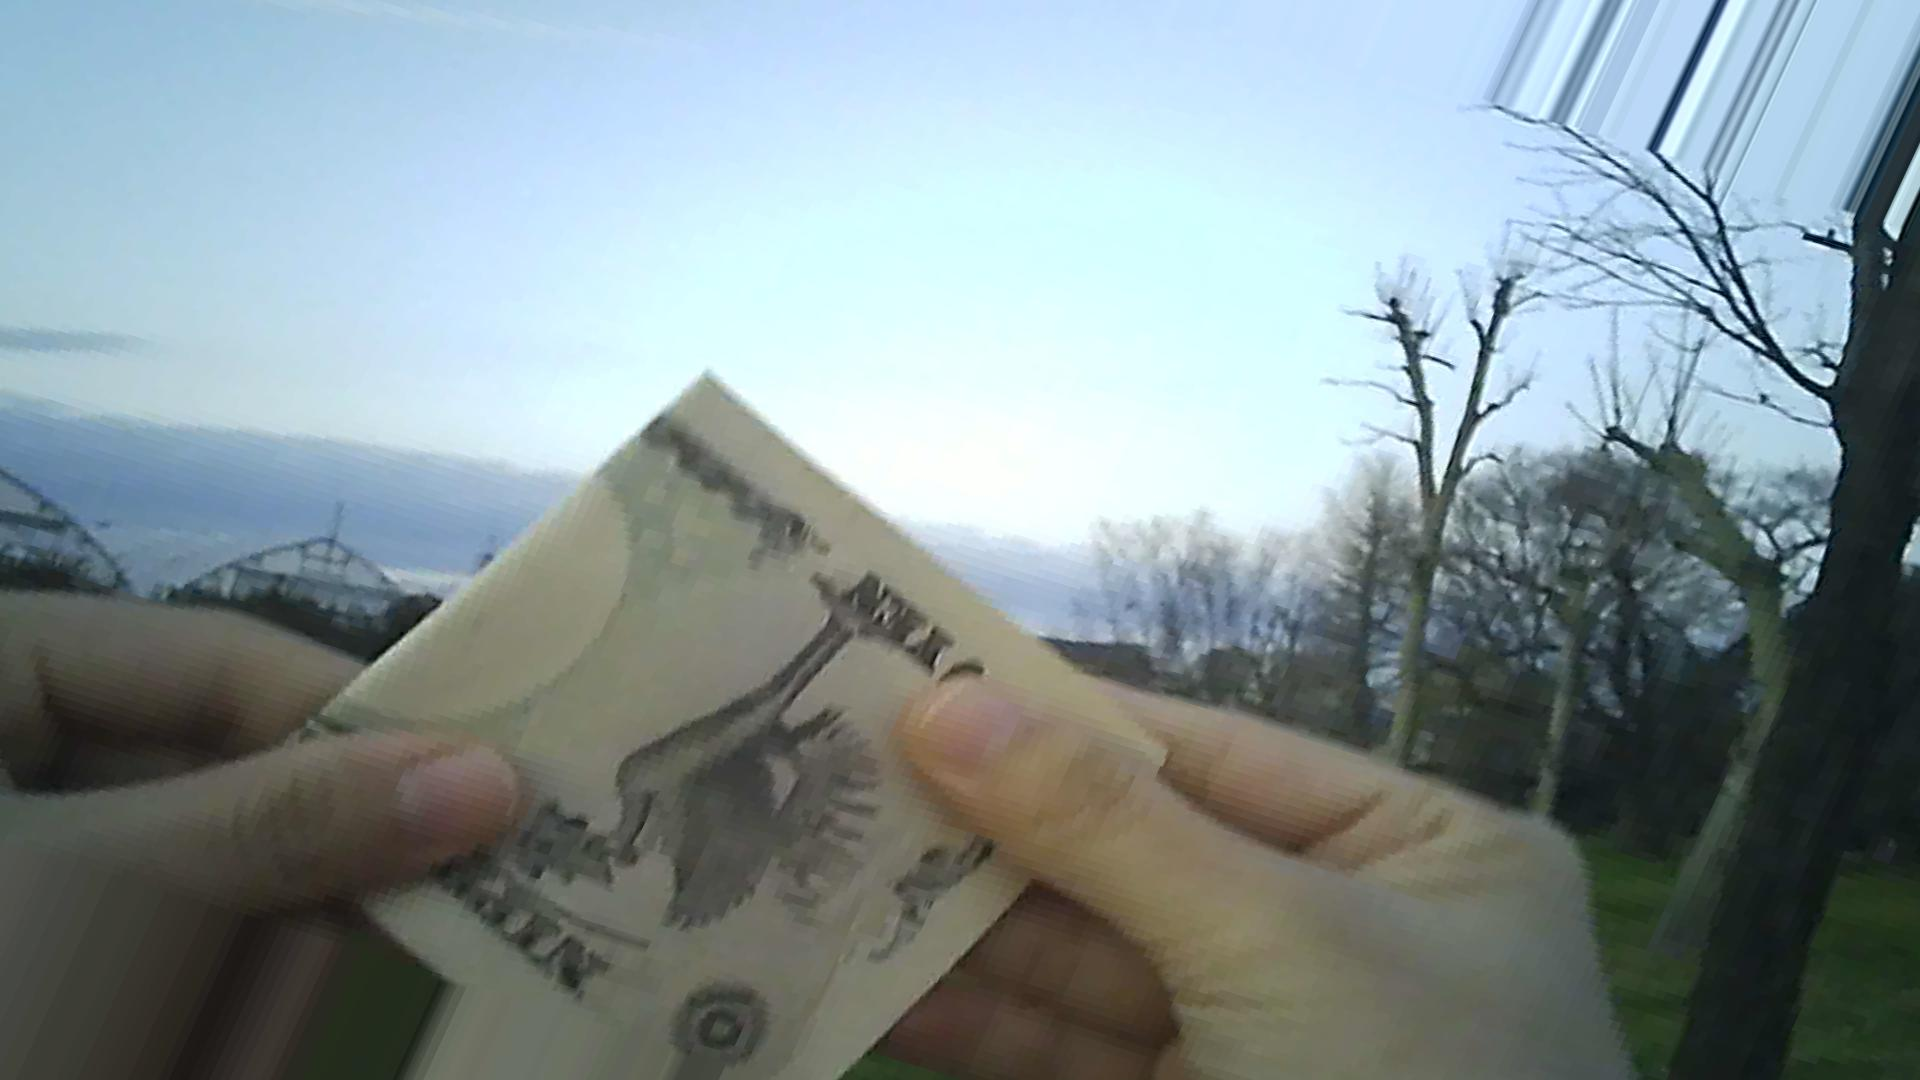10,000 Yen: (265, 385, 1097, 1079)
